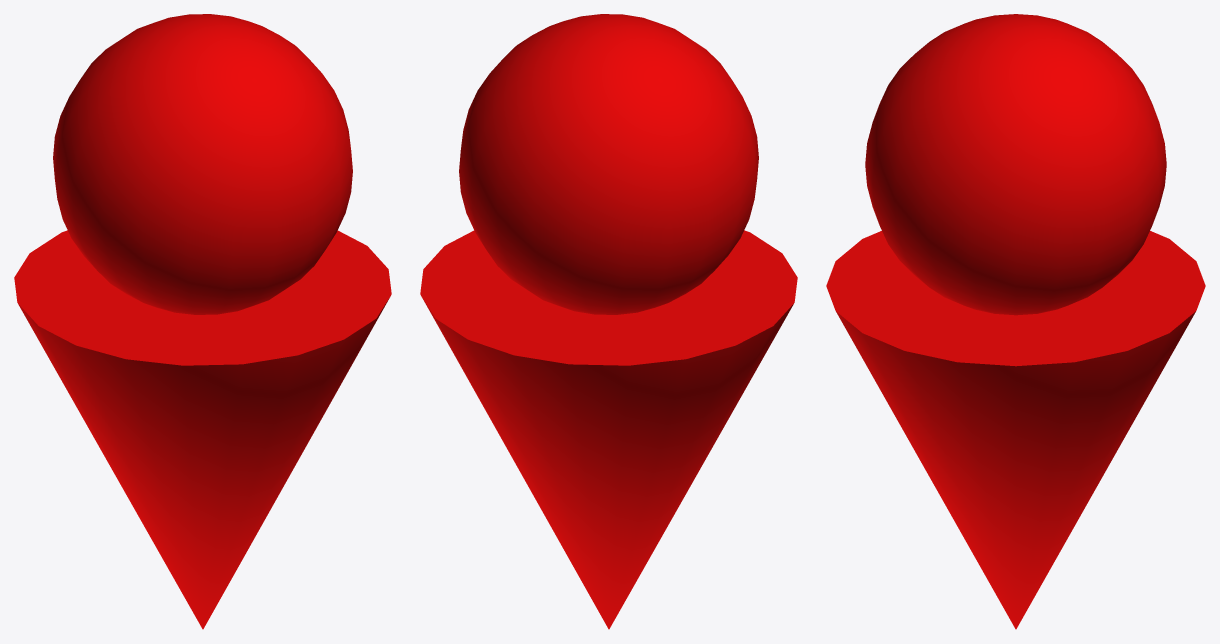
The model's file is character.fbx.
3 renders of one model, left to right at view 1: azimuth 30°, elevation 25°; view 2: azimuth 150°, elevation 25°; view 3: azimuth 270°, elevation 25°, orthographic.
Visible parts, largest first — view 1: pSphere2; view 2: pSphere2; view 3: pSphere2.
Part boxes in pixels (x1,y1,x2,y2): pSphere2: (14,14,391,629); pSphere2: (420,14,797,629); pSphere2: (826,14,1205,629).
Bounding box in the file's own units: 1.47 × 2.58 × 1.47.
